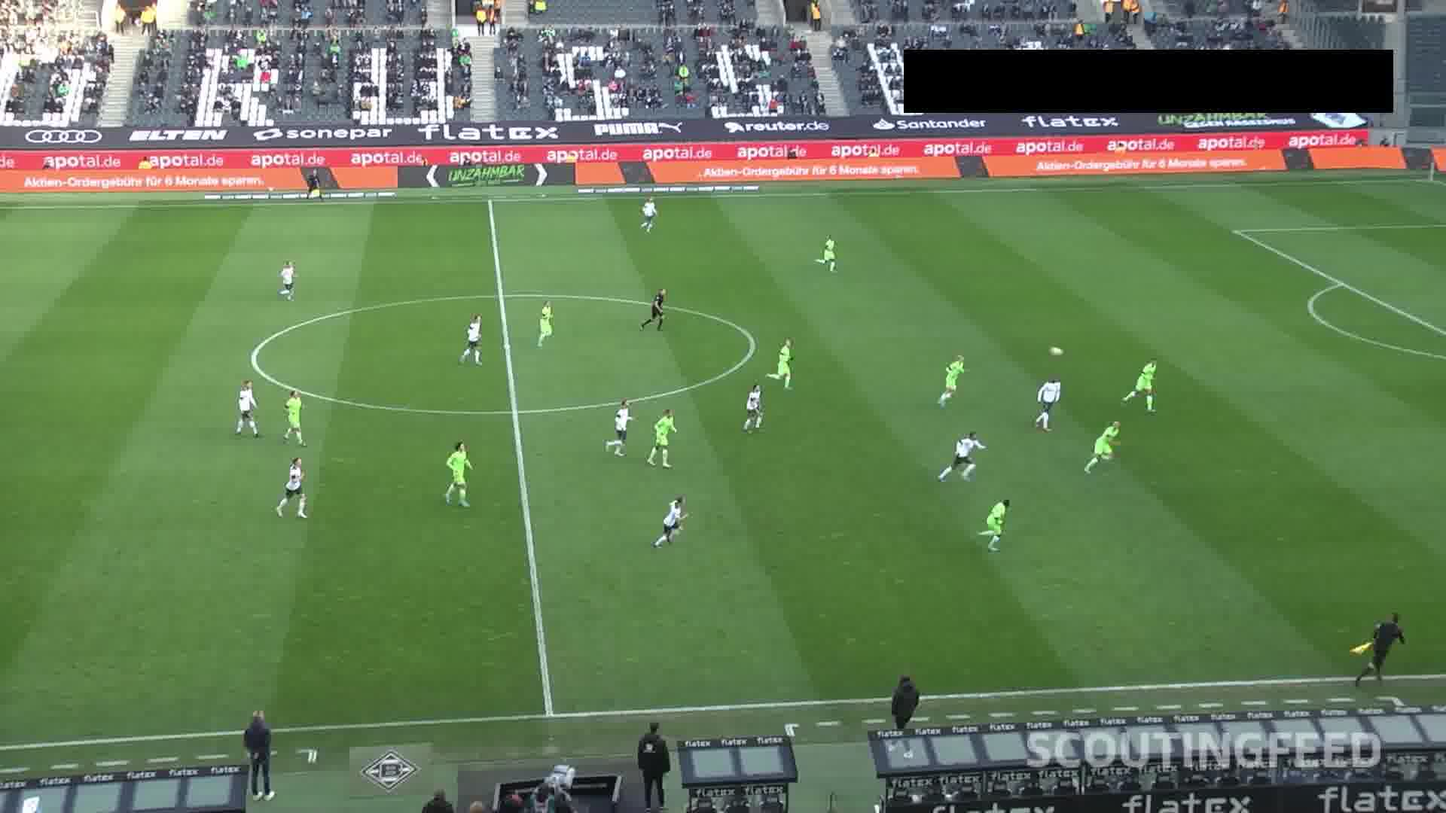ball: (1048, 346, 1068, 359)
coach_staff: (629, 719, 677, 804), (241, 703, 277, 802), (882, 667, 920, 752)
player: (935, 428, 983, 486), (438, 442, 479, 509), (1121, 353, 1160, 417), (1084, 413, 1121, 476), (1028, 371, 1061, 437), (277, 454, 310, 519), (930, 351, 964, 408), (655, 488, 684, 553), (737, 383, 771, 438), (232, 371, 260, 437), (644, 407, 674, 468), (457, 312, 490, 366), (282, 386, 310, 447), (605, 398, 630, 463), (983, 496, 1013, 550), (536, 295, 562, 353), (769, 337, 792, 394), (275, 258, 299, 307), (817, 228, 842, 275), (635, 196, 661, 238)
referee: (1354, 606, 1407, 689), (639, 286, 673, 331), (295, 163, 328, 201)
